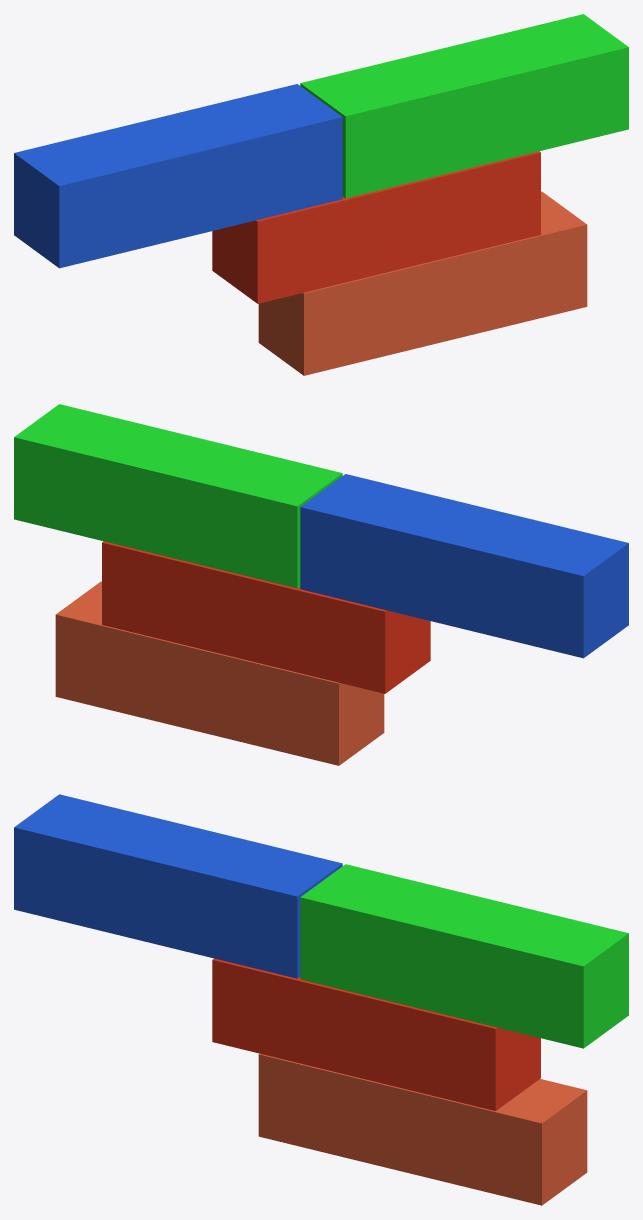
The model's file is Blokcs 2.fbx.
The picture shows the model from 3 angles, top to bottom: view 1: azimuth 30°, elevation 25°; view 2: azimuth 150°, elevation 25°; view 3: azimuth 330°, elevation 25°; orthographic projection.
Parts seen in each view (by area): view 1: Cube; view 2: Cube; view 3: Cube.
Boxes of the visible parts, x1,y1,x2,y2 form: Cube: (14, 14, 628, 375); Cube: (14, 404, 628, 765); Cube: (14, 794, 628, 1205).
Size of the model in its own units: 18.55 by 56.3 by 135.
